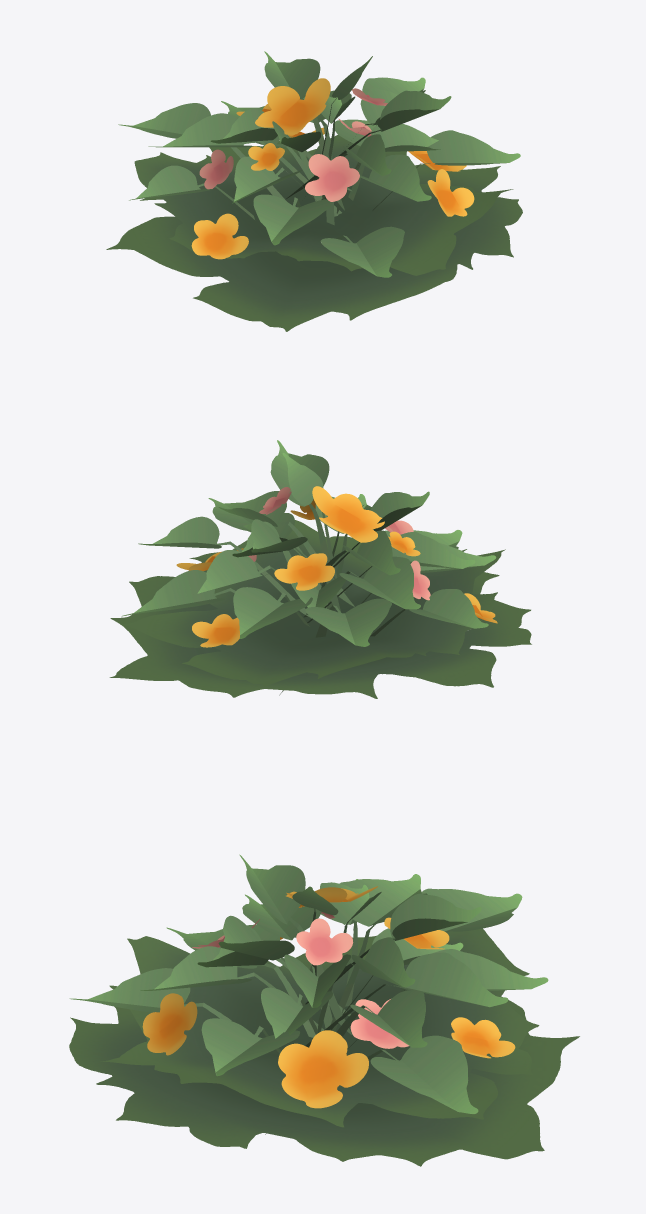
Rendered from plant_03.glb.
3 views of the same model, one above another, from view 1: azimuth 30°, elevation 25°; view 2: azimuth 150°, elevation 25°; view 3: azimuth 270°, elevation 25° (orthographic). The views are drawn at different scales.
Visible parts, largest first — view 1: plant_03; view 2: plant_03; view 3: plant_03.
Boxes of the visible parts, x1,y1,x2,y2 form: plant_03: [106, 51, 522, 331]; plant_03: [109, 440, 531, 698]; plant_03: [69, 854, 579, 1166].
Size of the model in its own units: 1.04 by 0.5672 by 1.04.
1 material, 1 textured.
